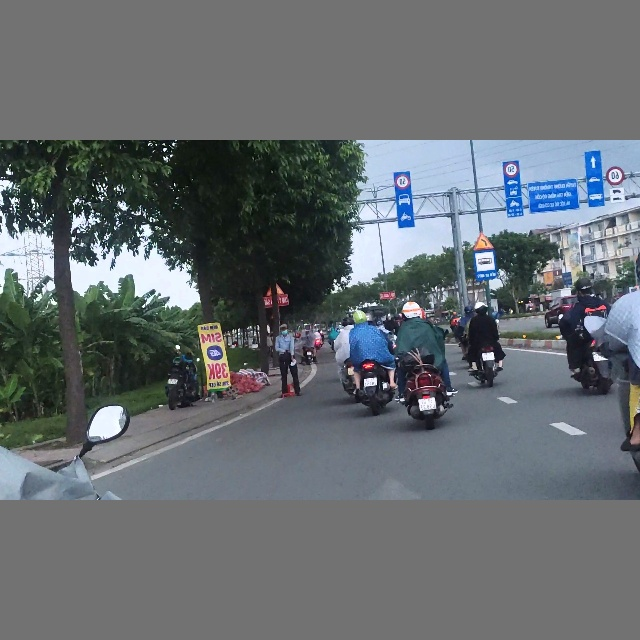I.434a: (474, 250, 497, 279)
P.127*50: (395, 174, 411, 189), (504, 162, 519, 177)
P.127*60: (606, 166, 624, 185)
S.505a*Xe tai va cong: (610, 187, 625, 202)
W.201b: (474, 232, 494, 251)
